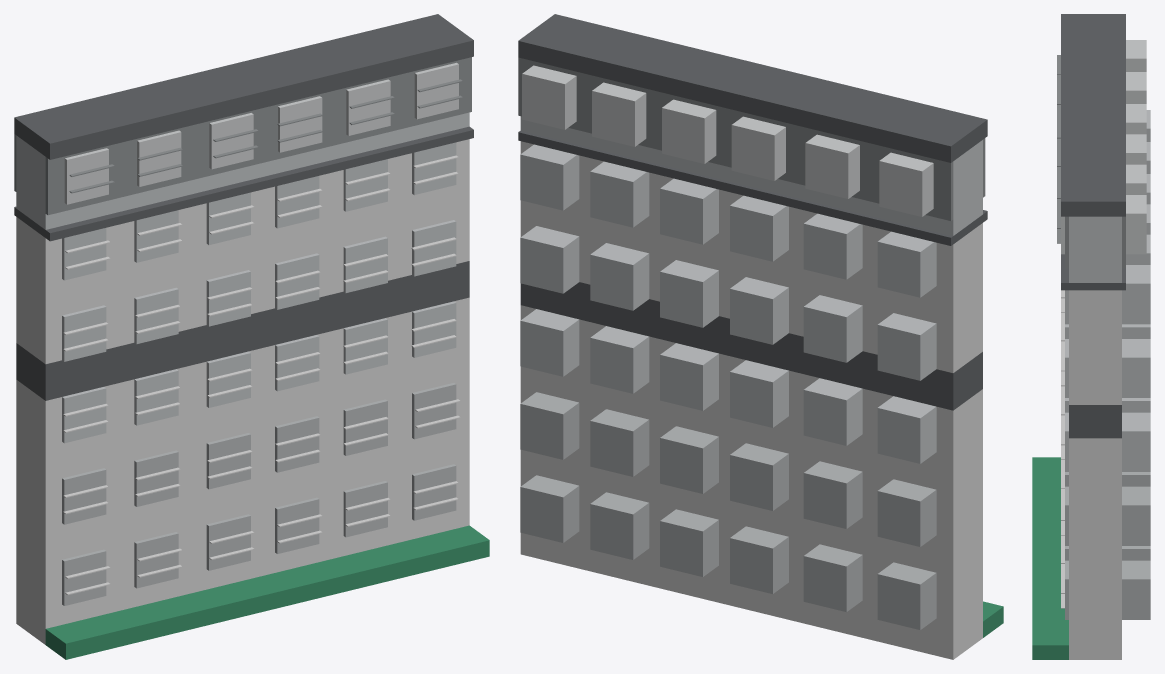
File: stc2.gltf
3 renders of one model, left to right at view 1: azimuth 30°, elevation 25°; view 2: azimuth 150°, elevation 25°; view 3: azimuth 270°, elevation 25°, orthographic. The views are drawn at different scales.
Parts seen in each view (by area): view 1: Mesh_Mesh_head_geo001_lambert2SG001; view 2: Mesh_Mesh_head_geo001_lambert2SG001; view 3: Mesh_Mesh_head_geo001_lambert2SG001.
Boxes of the visible parts, x1=… form: Mesh_Mesh_head_geo001_lambert2SG001: x1=14, y1=14, x2=489, y2=659; Mesh_Mesh_head_geo001_lambert2SG001: x1=518, y1=14, x2=1003, y2=659; Mesh_Mesh_head_geo001_lambert2SG001: x1=1032, y1=14, x2=1150, y2=659.
Bounding box in the file's own units: 109 × 124 × 29.
